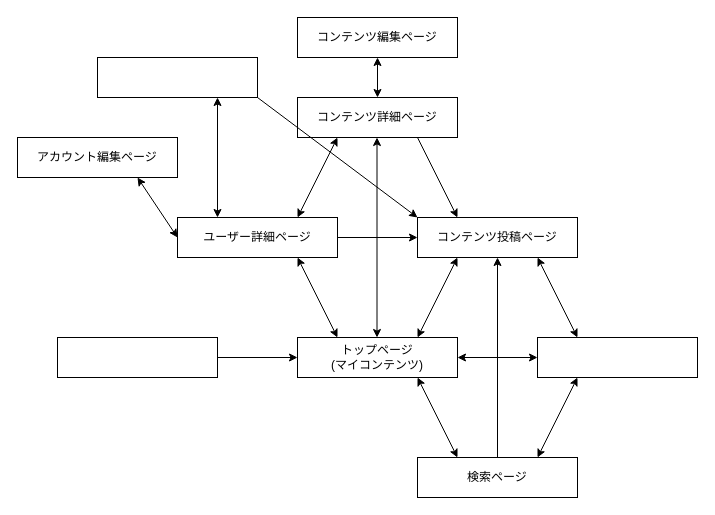
This 715x515 diagram has some shape labels left out. Each missing label, with the centre of its shape:
サインイン・ログインページ: the point at 137,357
トップページ (トライコンテンツ): the point at 617,357
フォローフォロワー 一覧ページ: the point at 177,77
